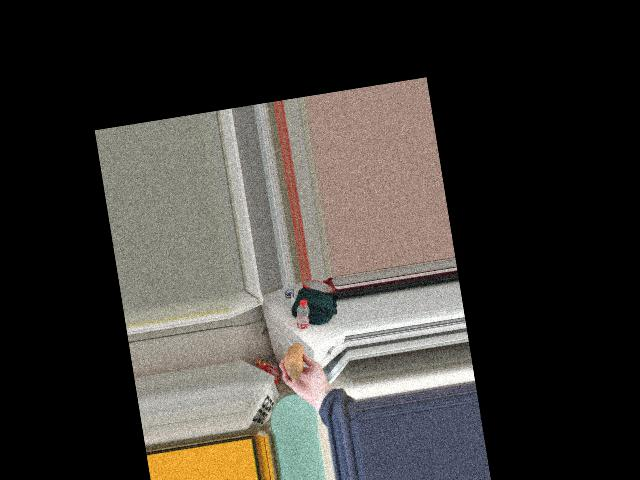sweet_potato: (282, 341, 306, 384)
